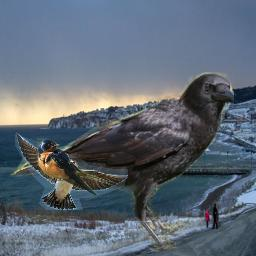Crow: (7, 72, 234, 252)
Swallow: (15, 132, 128, 210), (37, 138, 113, 195)
